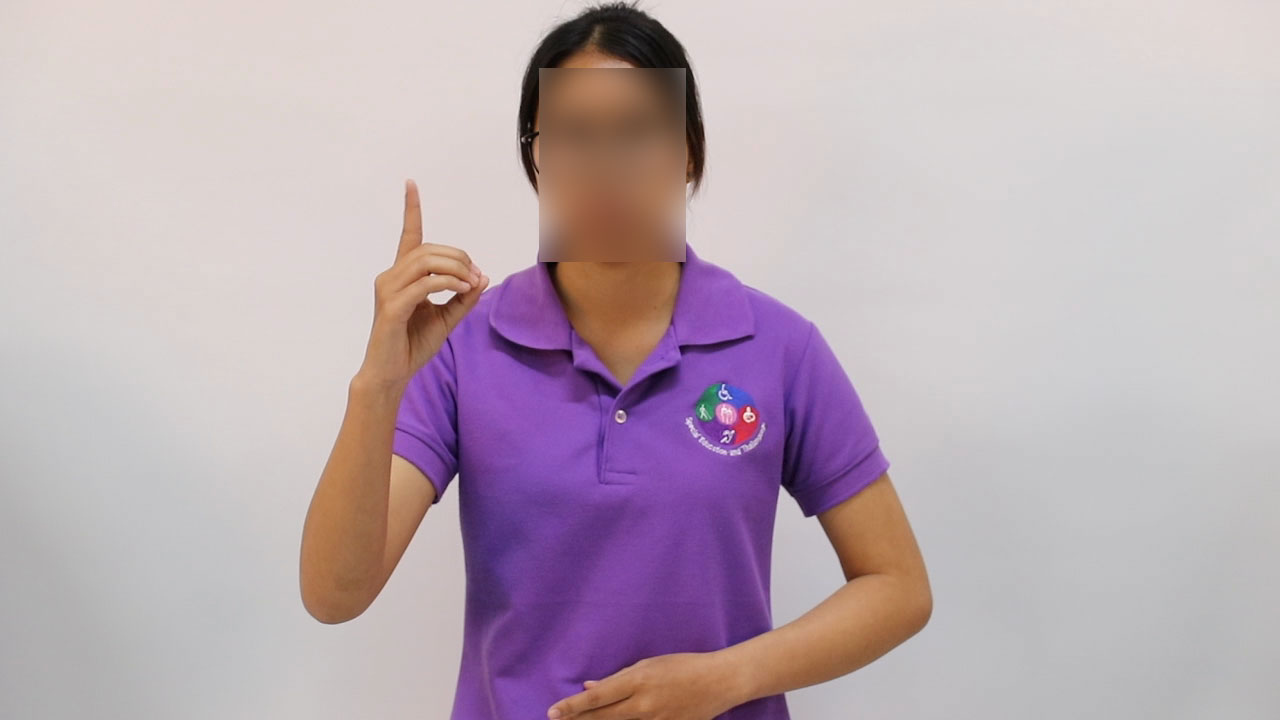dor: (349, 166, 500, 383)
